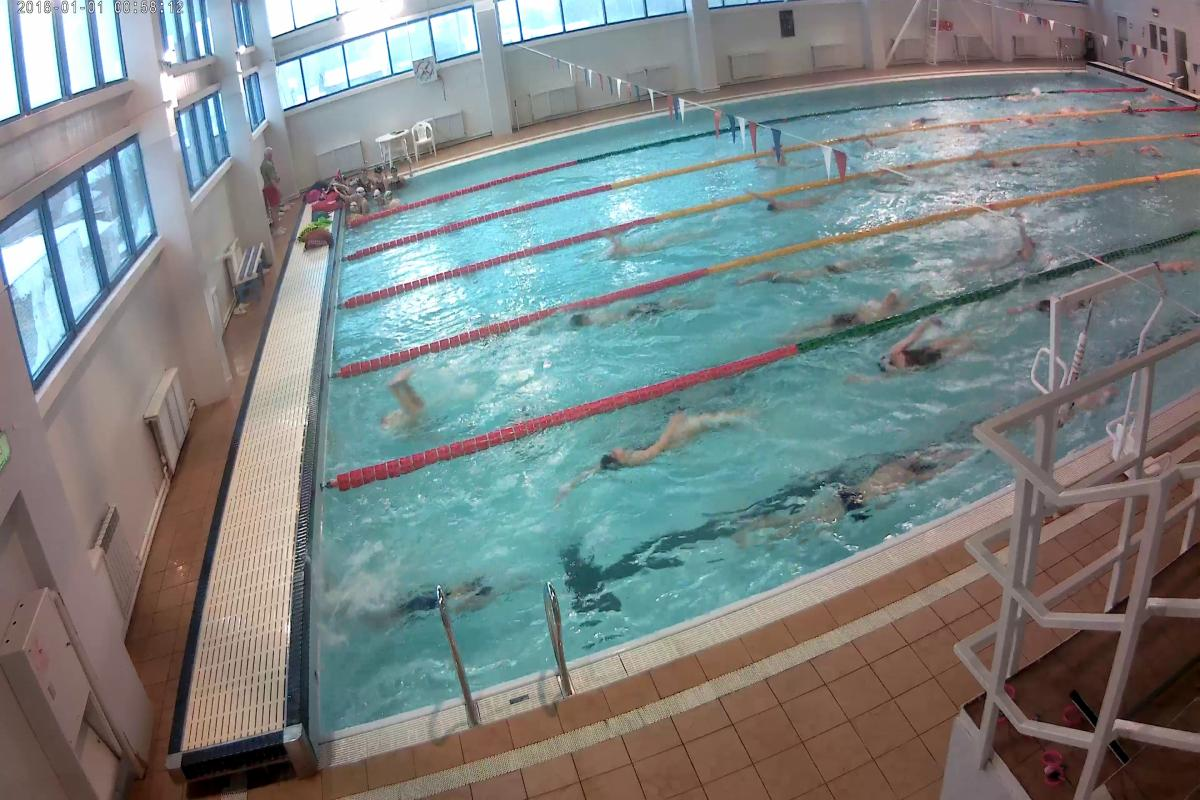swimmer: (793, 448, 957, 539), (592, 407, 763, 477), (562, 296, 704, 339), (376, 570, 517, 606), (848, 334, 989, 368), (791, 288, 897, 324), (368, 384, 447, 431), (755, 191, 862, 219), (740, 264, 892, 283), (1000, 225, 1044, 265), (974, 150, 1034, 174), (585, 240, 683, 253), (1068, 139, 1108, 164), (1153, 256, 1194, 274)
